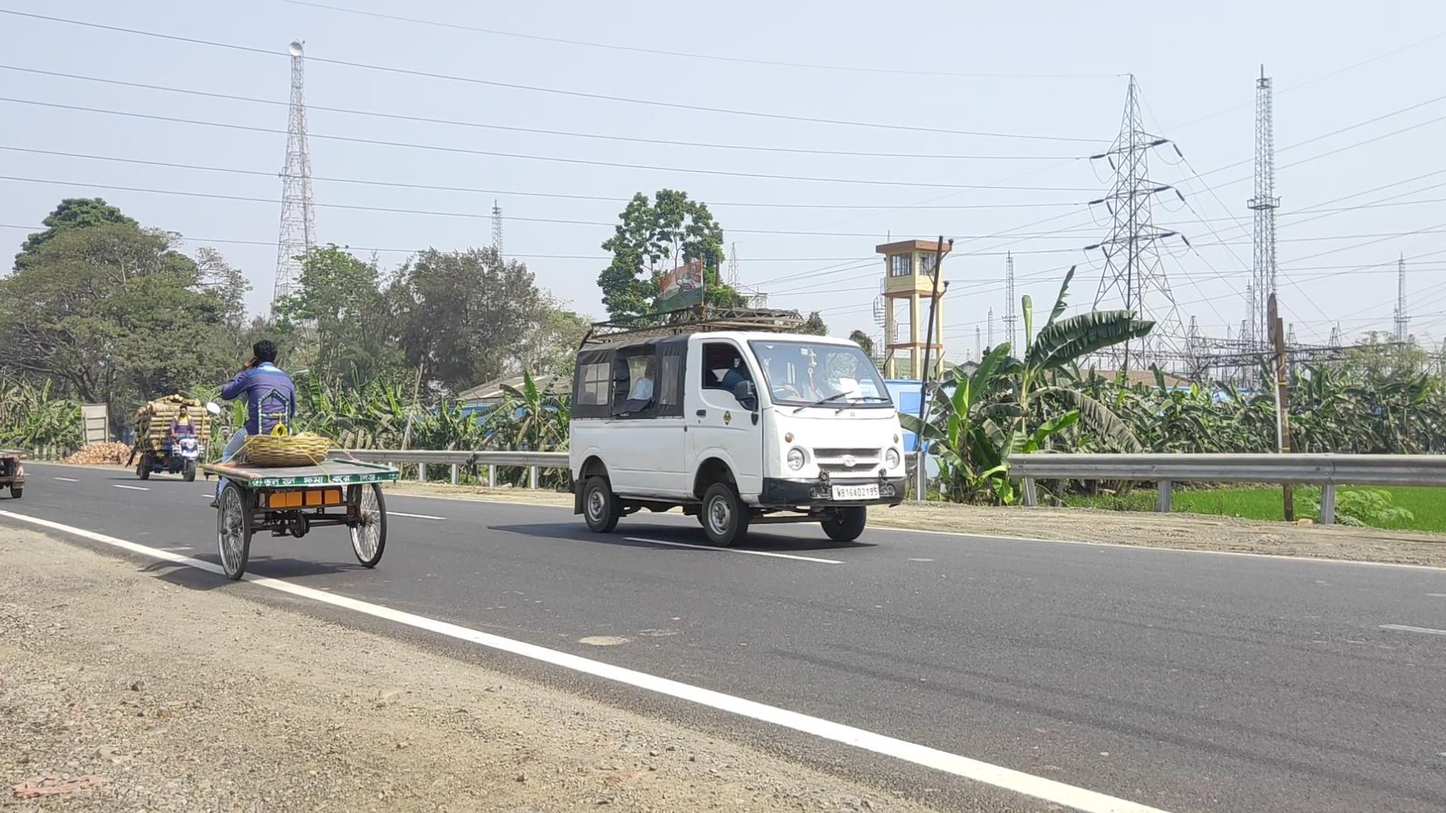van: (569, 306, 907, 546)
